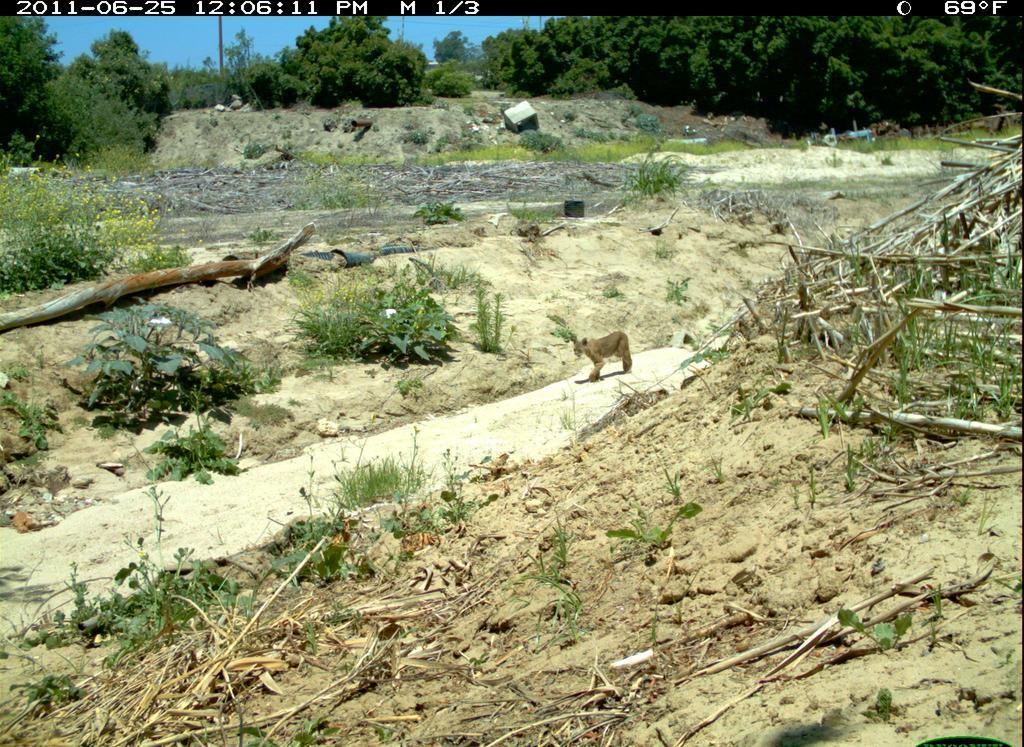bobcat: (568, 326, 639, 386)
